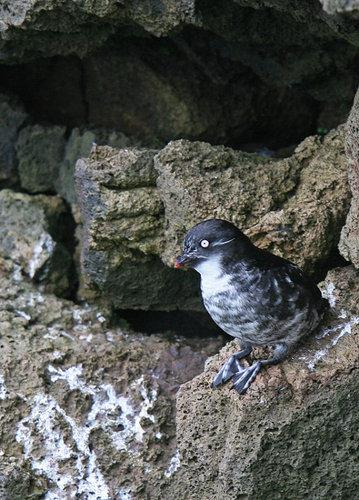006.Least_Auklet: (174, 223, 327, 392)
